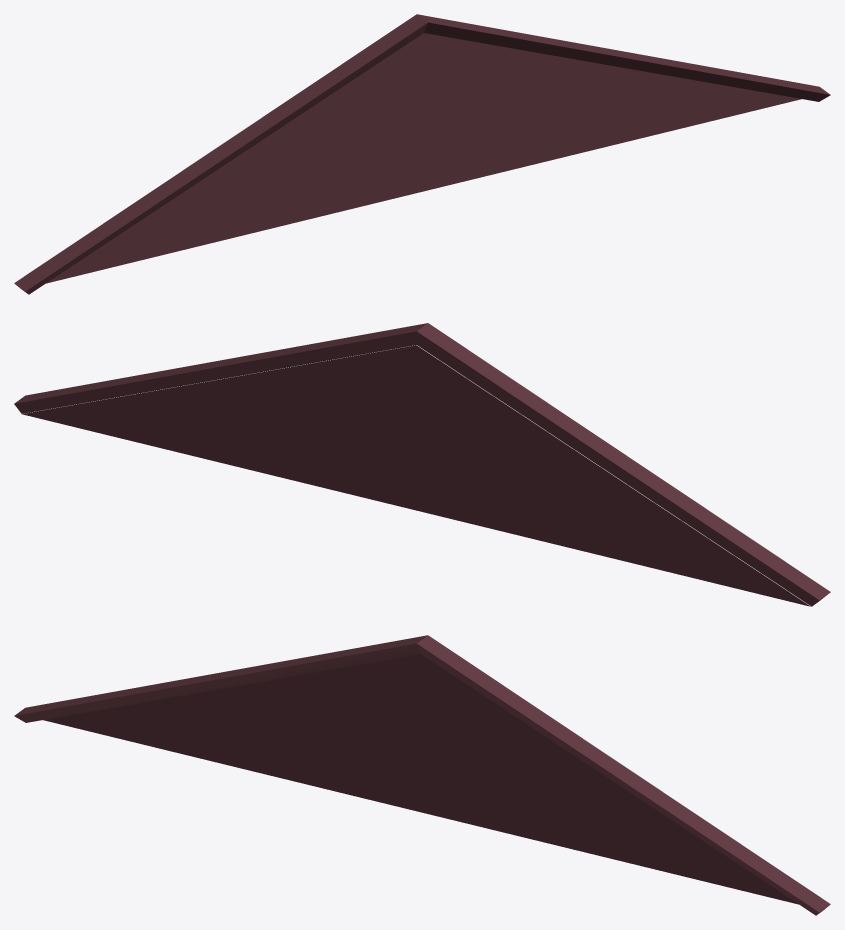
The model's file is empire-wall-vertical-6m-empire.glb.
3 views of the same model, one above another, from view 1: azimuth 30°, elevation 25°; view 2: azimuth 150°, elevation 25°; view 3: azimuth 330°, elevation 25° (orthographic).
Visible parts, largest first — view 1: SM_Wall_Vertical_6m_Empire; view 2: SM_Wall_Vertical_6m_Empire; view 3: SM_Wall_Vertical_6m_Empire.
Boxes of the visible parts, box(x1,y1,x2,y2) form: SM_Wall_Vertical_6m_Empire: box(14, 14, 830, 294); SM_Wall_Vertical_6m_Empire: box(14, 323, 830, 606); SM_Wall_Vertical_6m_Empire: box(14, 635, 830, 915).
Size of the model in its own units: 6.12 by 1.3 by 0.1542.
